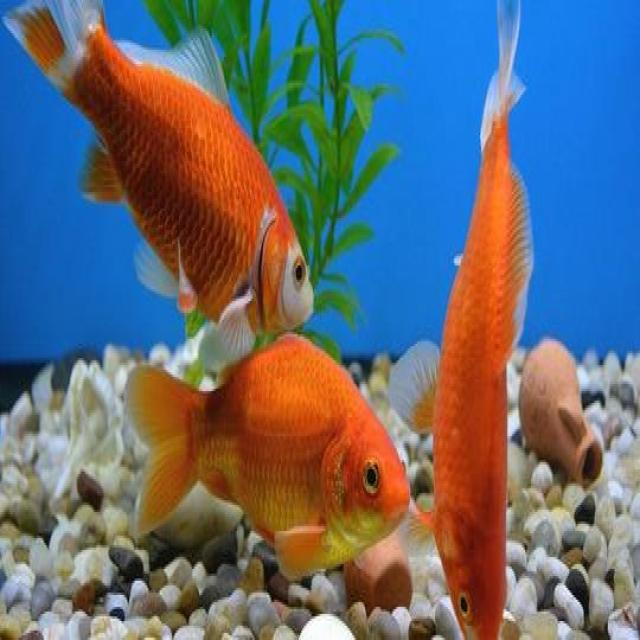GoldFish: (0, 0, 320, 348), (414, 9, 540, 640), (121, 330, 411, 592)
